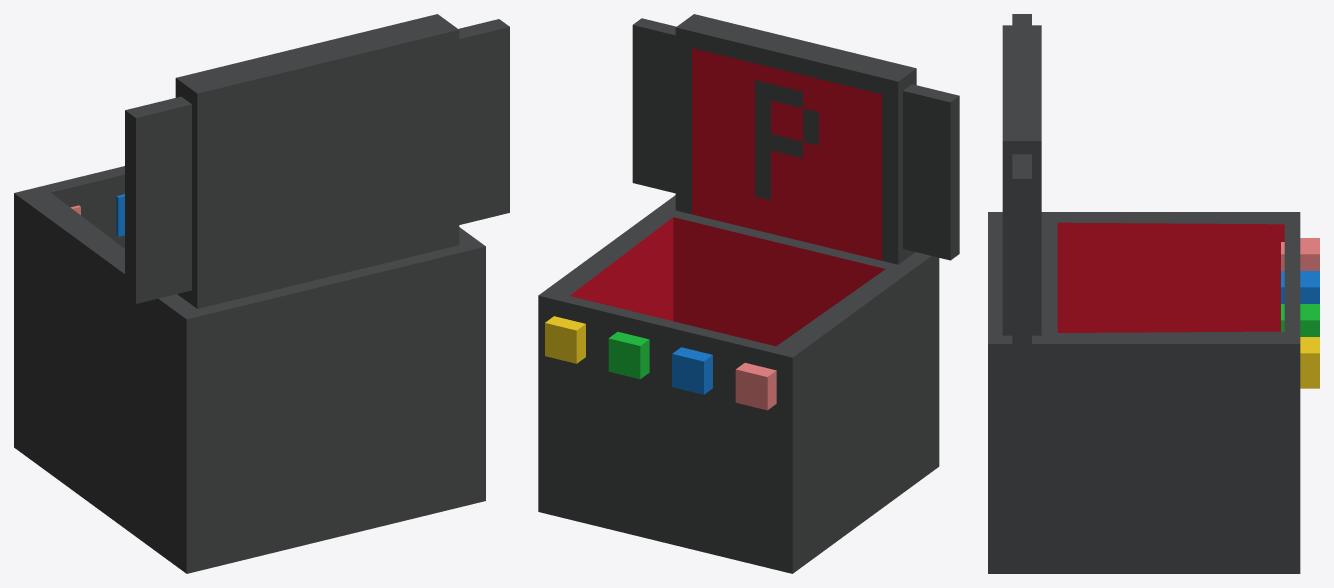
The model's file is RedBasket.fbx.
3 views of the same model, side by side, from view 1: azimuth 30°, elevation 25°; view 2: azimuth 150°, elevation 25°; view 3: azimuth 270°, elevation 25° (orthographic). The views are drawn at different scales.
Parts seen in each view (by area): view 1: cuboid; view 2: cuboid, cube_2, cube, cube_3, cube_1; view 3: cuboid, cube_3, cube_1, cube, cube_2.
Boxes of the visible parts, x1,y1,x2,y2 form: cuboid: (14,14,509,573); cuboid: (538,14,959,573); cube_2: (608,331,649,379); cube: (735,363,776,410); cube_3: (545,316,585,363); cube_1: (672,347,712,394); cuboid: (988,14,1300,573); cube_3: (1300,337,1319,388); cube_1: (1281,271,1319,303); cube: (1281,238,1319,270); cube_2: (1281,304,1319,336).
Bounding box in the file's own units: 125 × 150 × 106.
5 materials, 5 textured.
